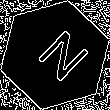N_SW: (23, 23, 87, 87)
